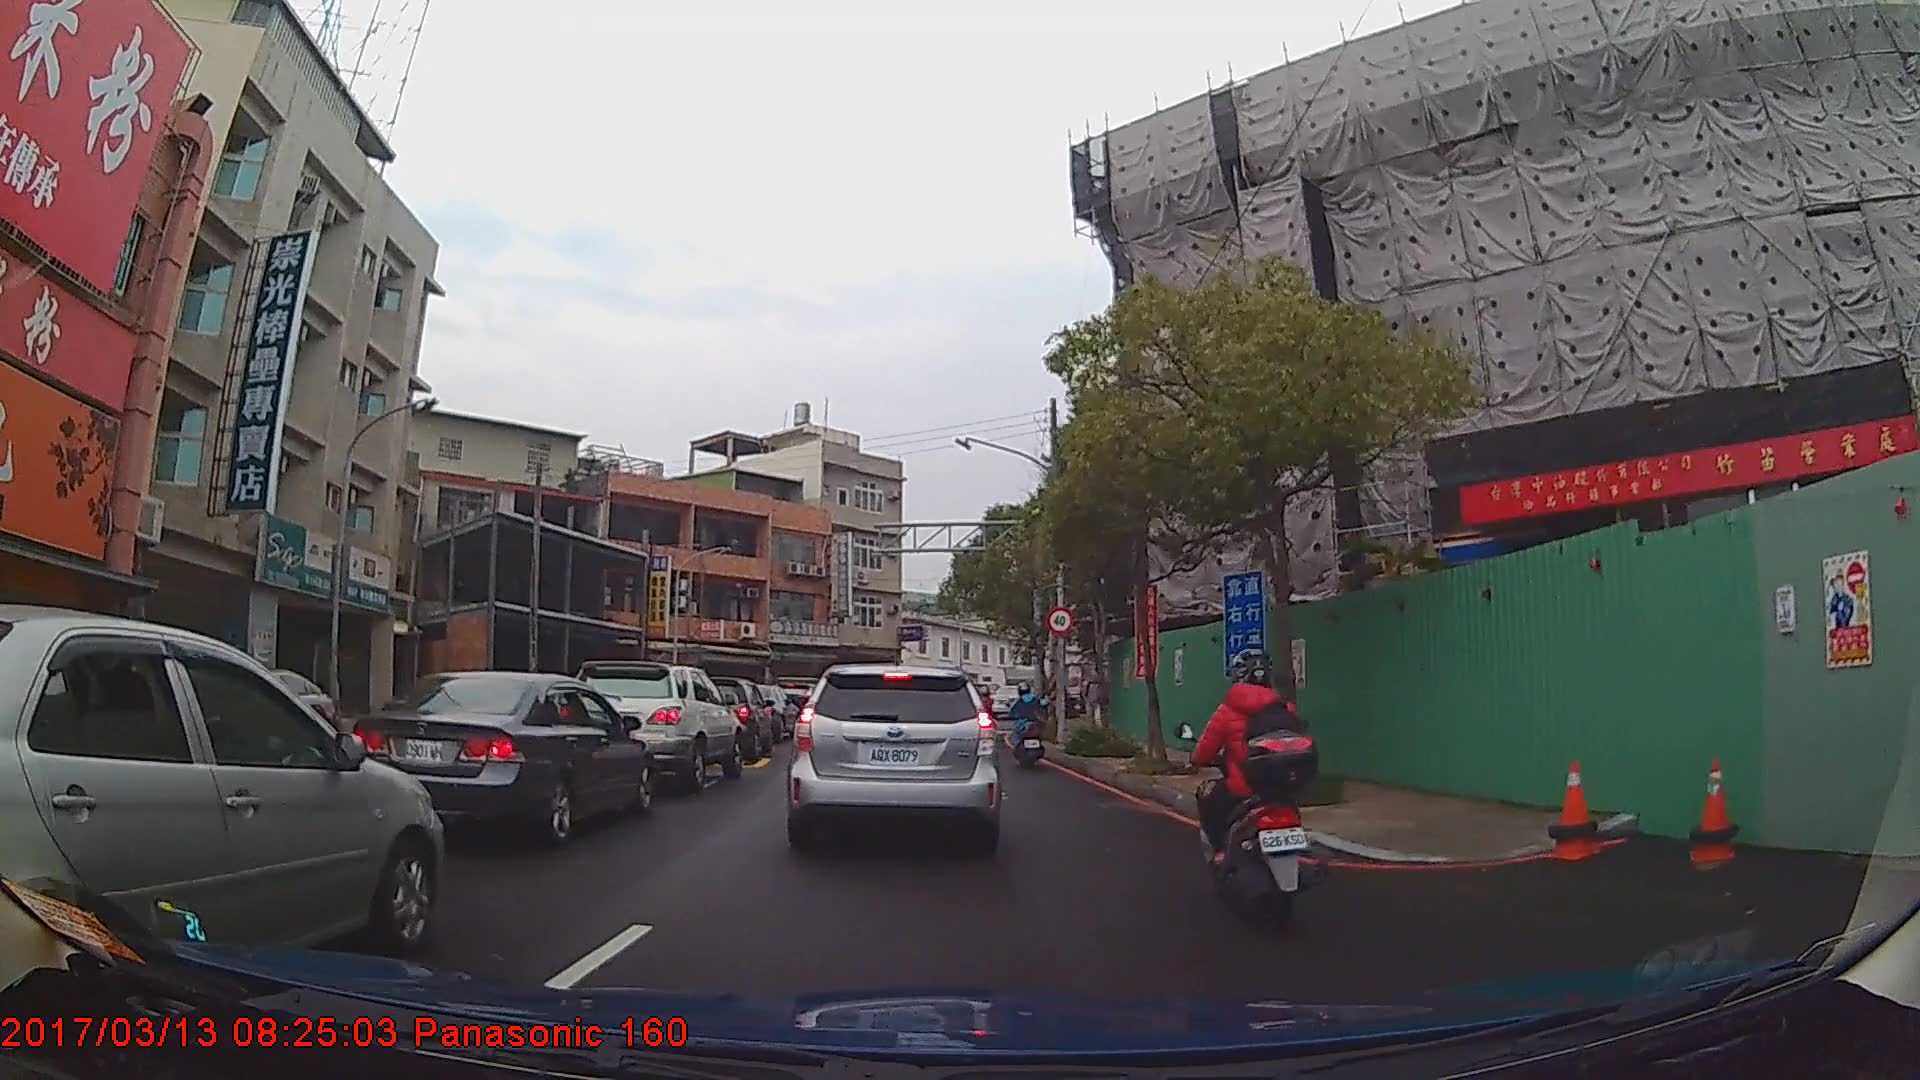rider: (1179, 649, 1328, 926), (1007, 683, 1051, 774)
vehicle: (0, 604, 444, 997), (351, 669, 650, 844), (783, 664, 1000, 853), (570, 656, 743, 791)
